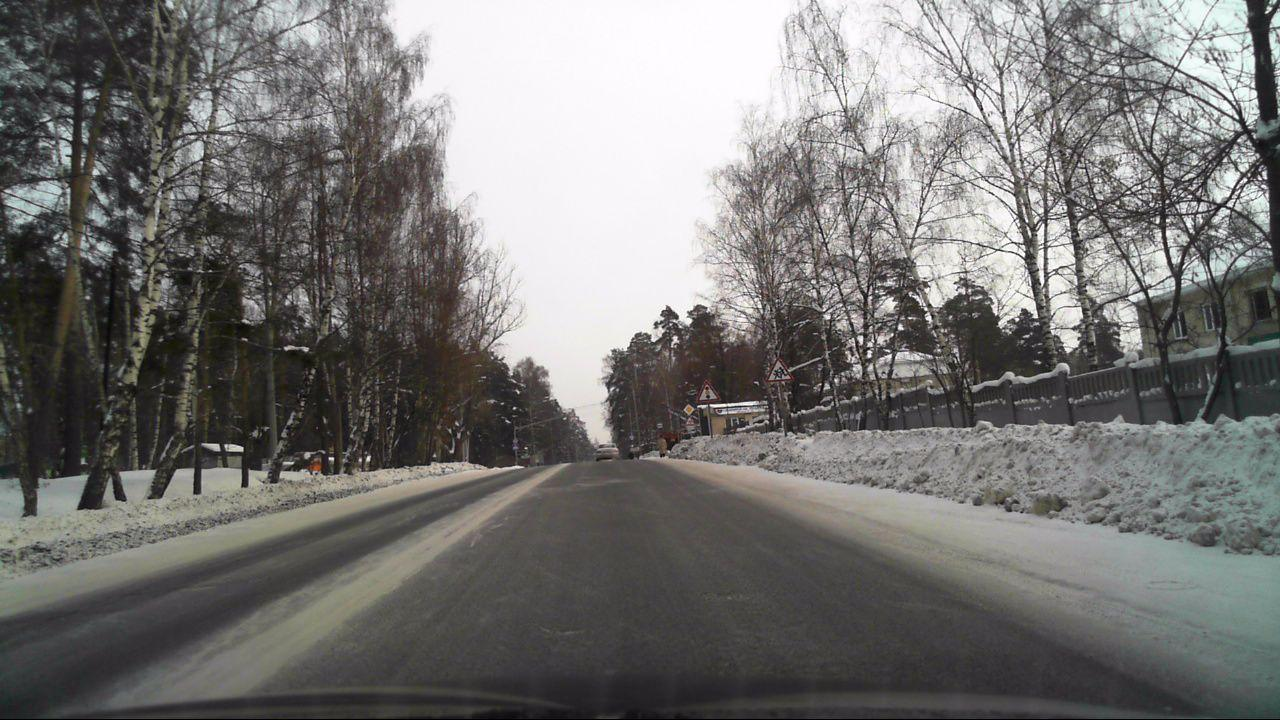1_23: (767, 356, 794, 383)
1_8: (695, 380, 720, 401)
2_1: (684, 403, 696, 415)
